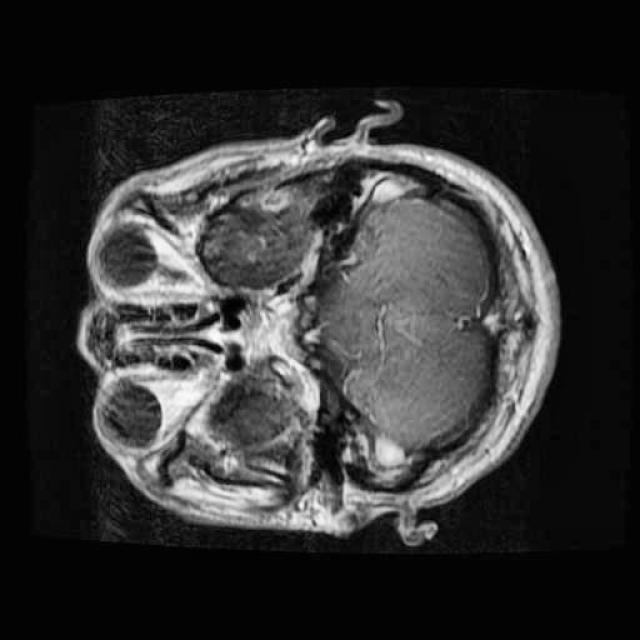Tumor: (222, 179, 298, 222)
